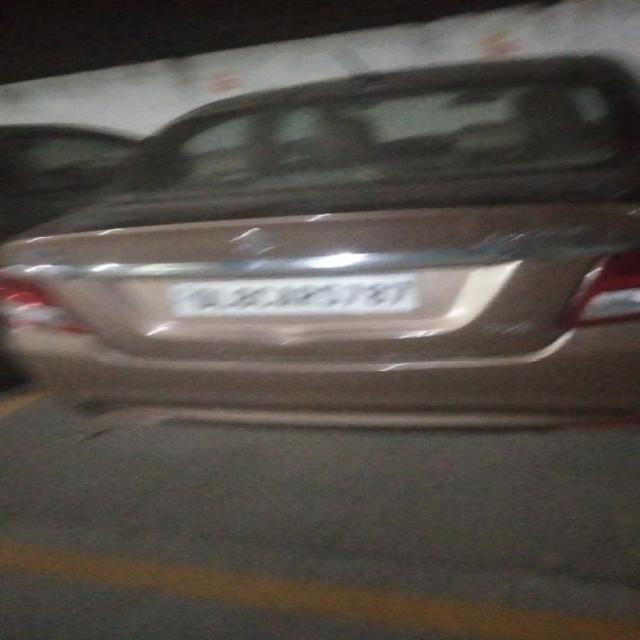license_plate: (163, 272, 423, 318)
